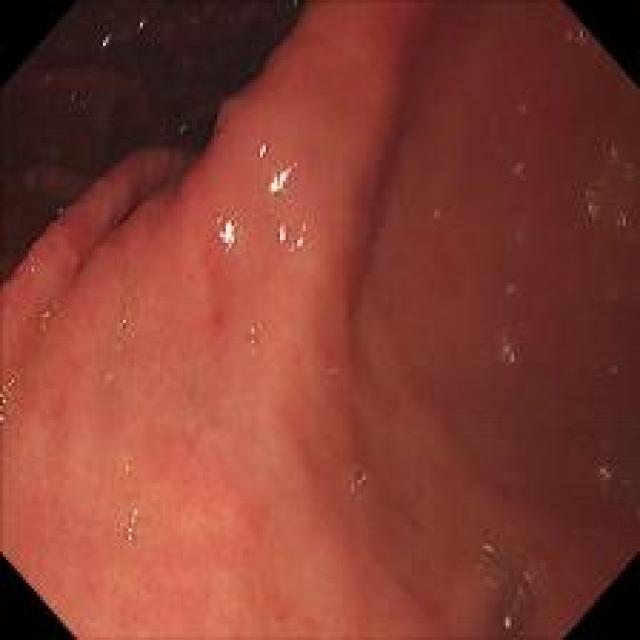bubbles: (234, 300, 269, 352), (342, 466, 375, 500), (114, 278, 132, 336), (120, 506, 144, 541), (1, 371, 18, 401), (324, 364, 339, 380), (102, 370, 114, 386)
color misalignment: (498, 310, 526, 376)
contrast: (0, 5, 311, 310)
specularity: (214, 211, 238, 258), (268, 162, 298, 198), (276, 222, 288, 240), (258, 142, 270, 159), (296, 234, 306, 251)
